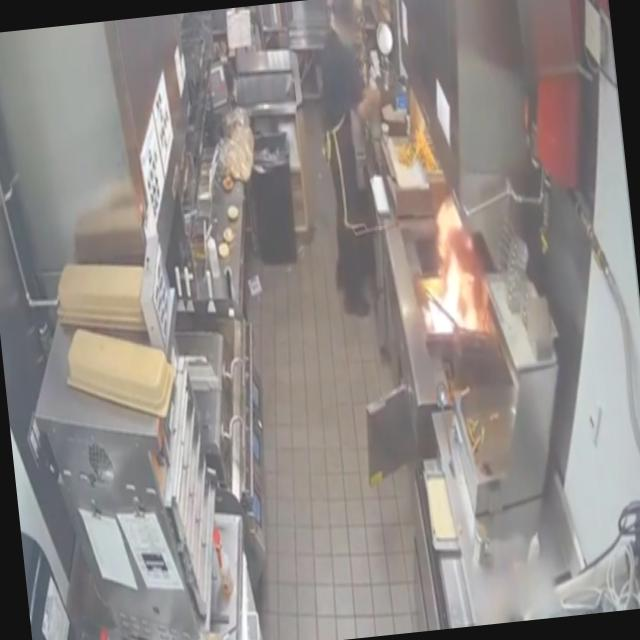fire: (406, 193, 500, 360)
